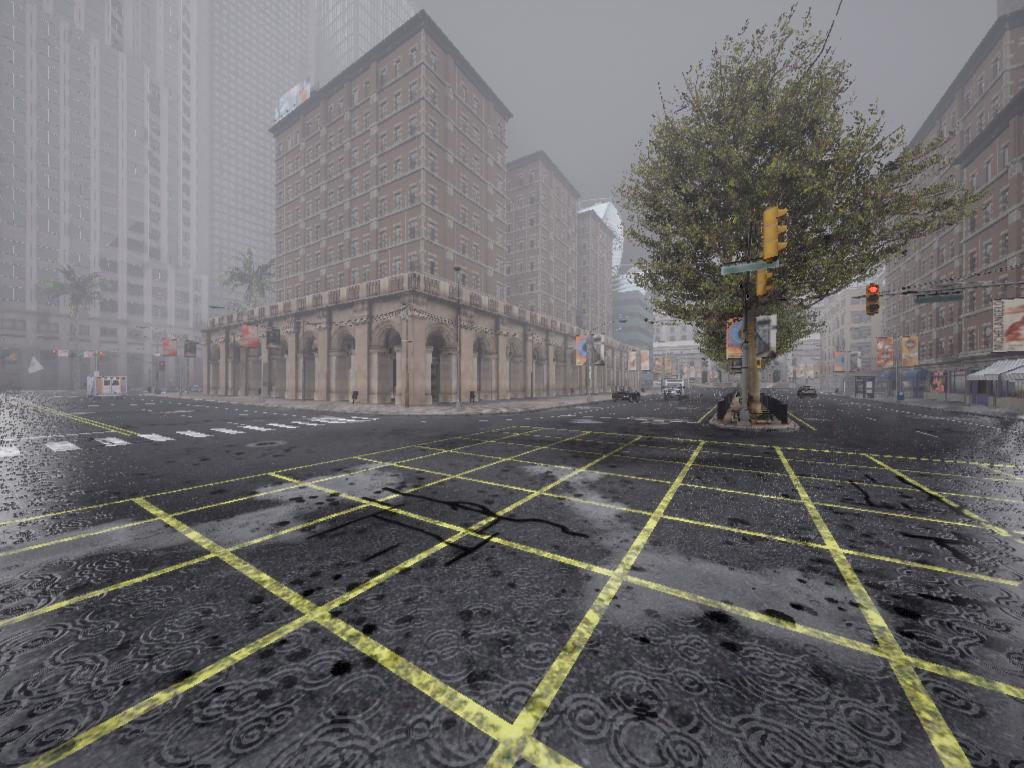traffic_light: (760, 207, 791, 262), (868, 284, 883, 315), (95, 346, 107, 367), (50, 347, 60, 368)
